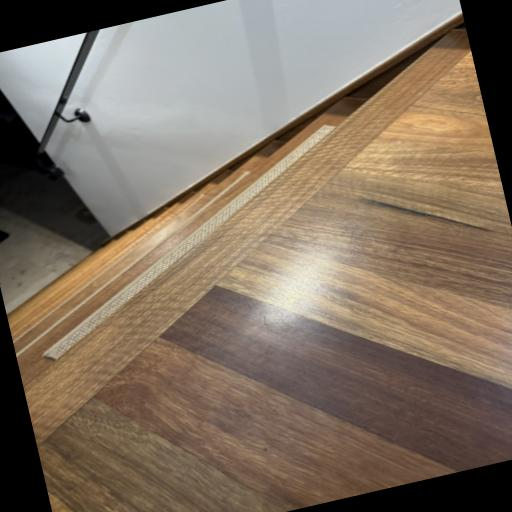stairs: (7, 90, 375, 387)
